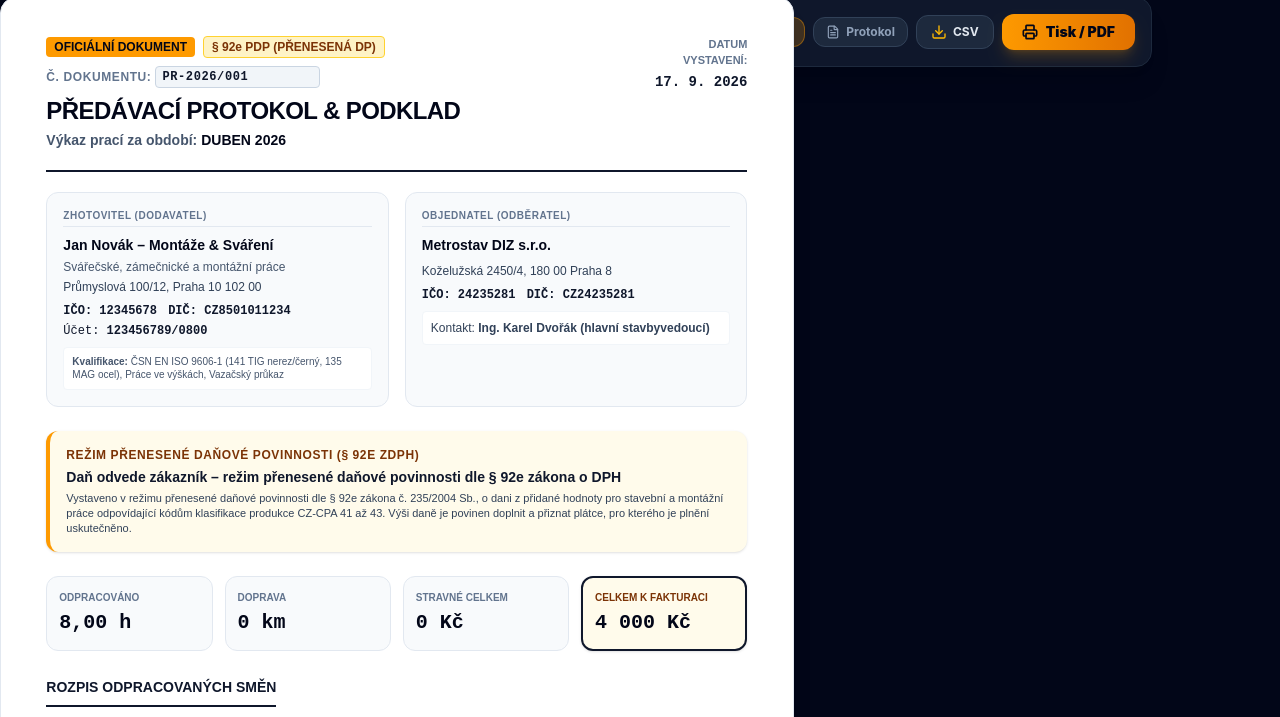
Scenario: Milestone M1 Adversarial Verification (Challenger 2) › 4. SPAYD QR Consistency & Verification › displays graceful fallback when contractor IBAN is missing
Click the button "Protokol": (861, 32) [813,17,908,47]
(page scrolled)
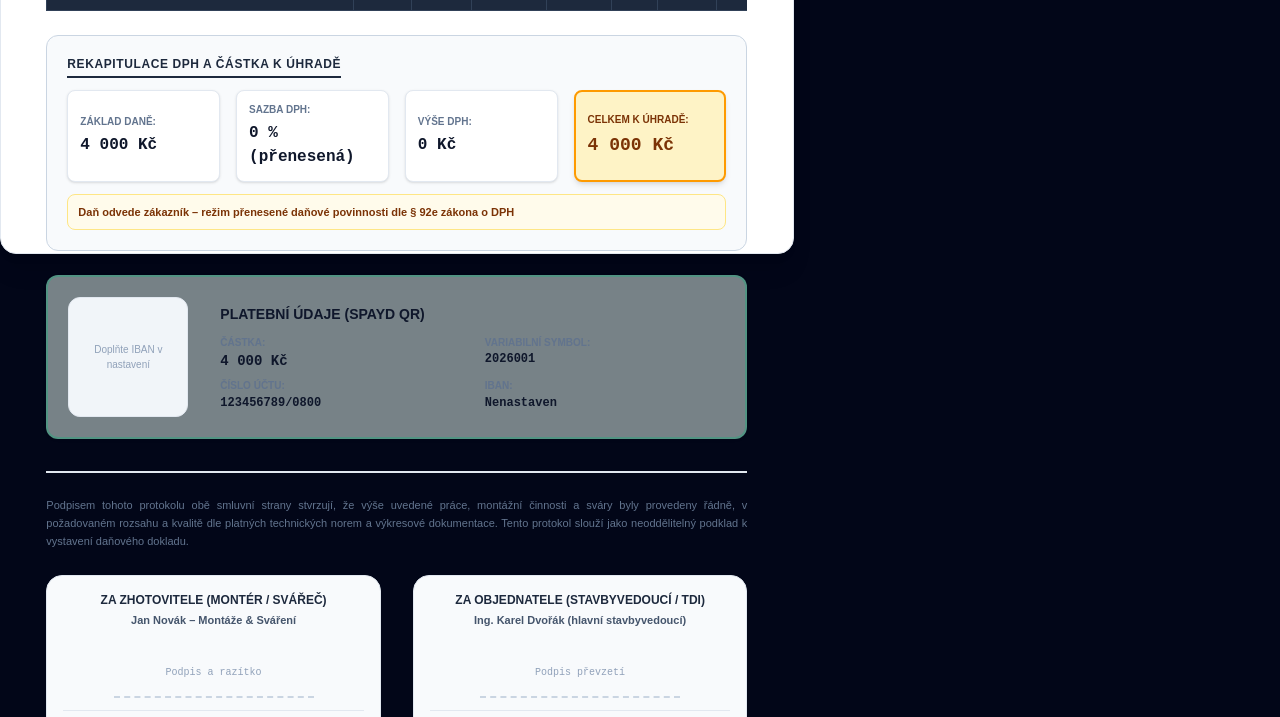
Expected: the text "Doplňte IBAN v nastavení" is shown, [68,298,188,418]
